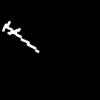double_crochet: (2, 21, 38, 52)
